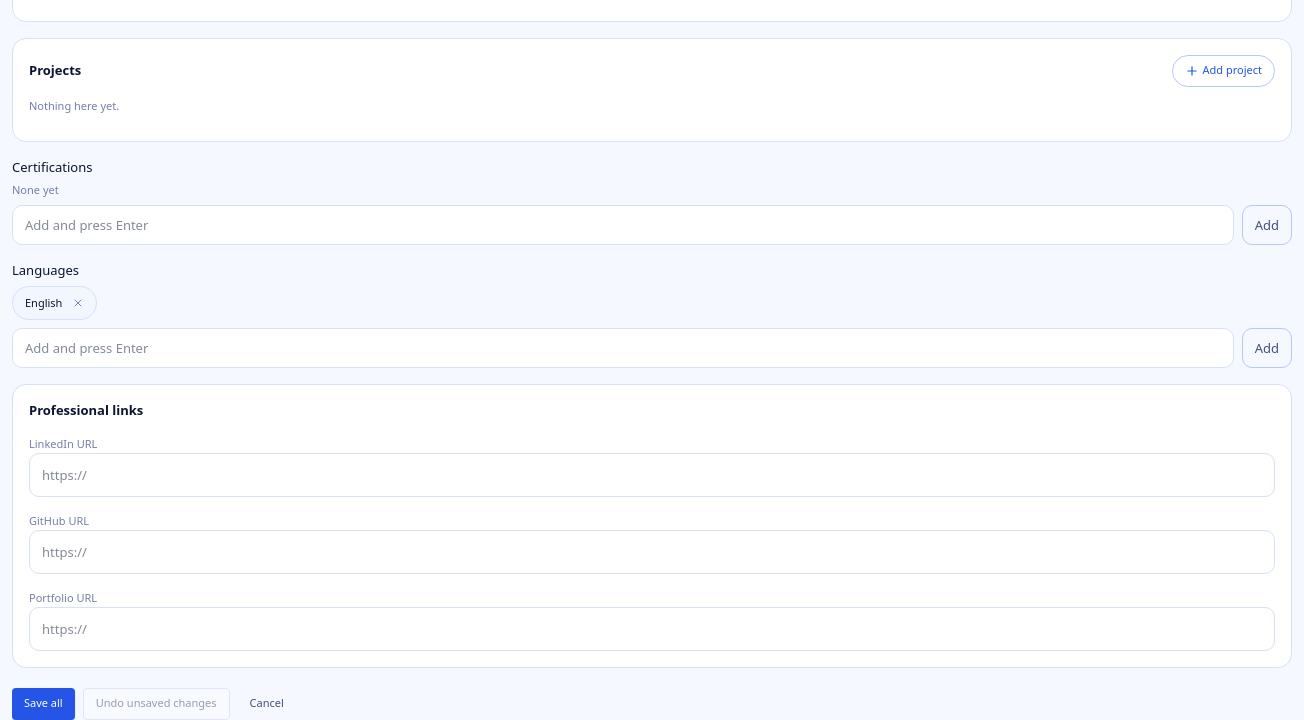
Test: StructuredResumeEditor › blocks saving invalid professional links and shows an error summary
(page scrolled)
In the field labelled "LinkedIn URL": (652,474) [29,452,1275,496], type "not-a-url"
(page scrolled)
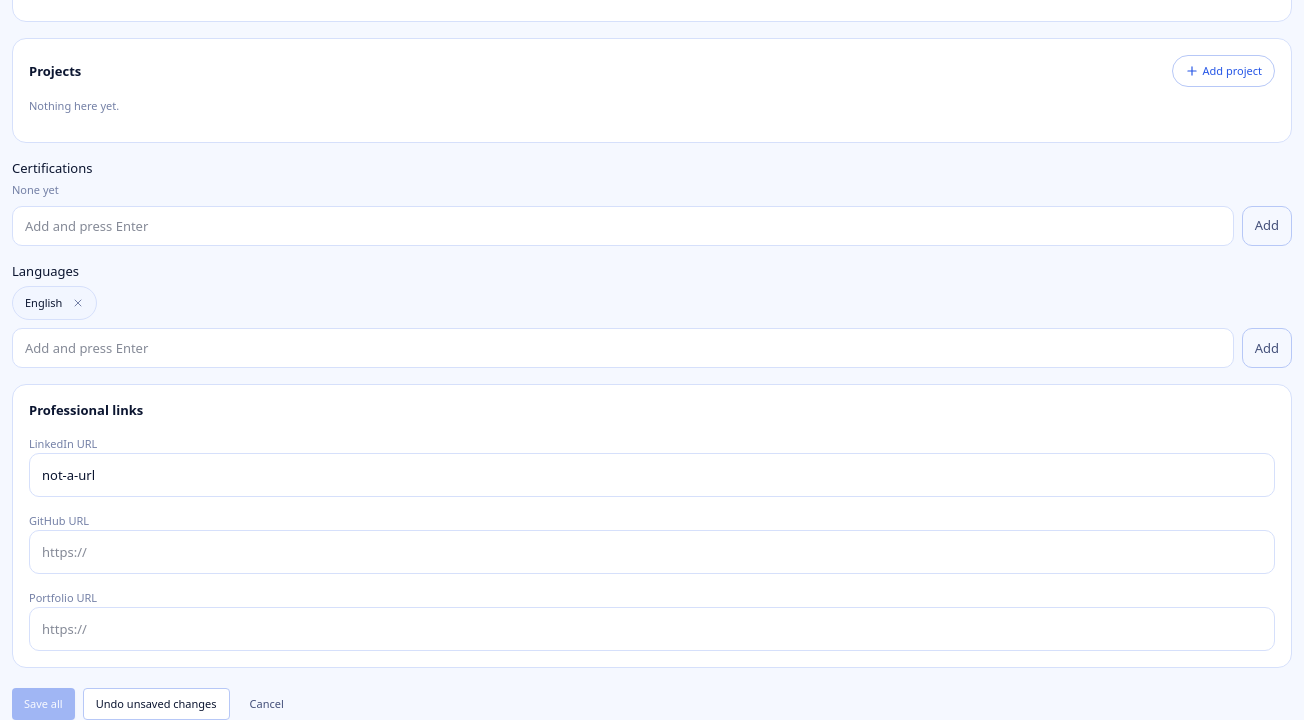
Expected: the button "Save all" is disabled, [12,688,75,719]
